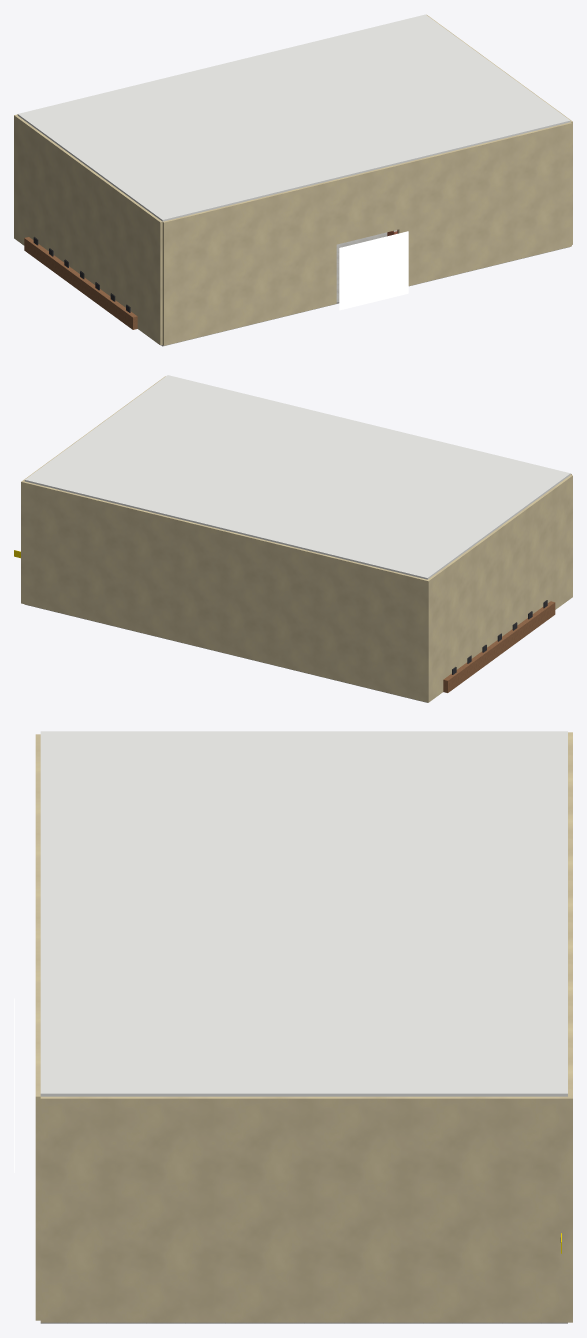
The model's file is room_station.glb.
The picture shows the model from 3 angles, top to bottom: view 1: azimuth 30°, elevation 25°; view 2: azimuth 150°, elevation 25°; view 3: azimuth 270°, elevation 25°; orthographic projection. The views are drawn at different scales.
Visible parts, largest first — view 1: Room; view 2: Room; view 3: Room.
Boxes of the visible parts, x1,y1,x2,y2 form: Room: (14, 14, 572, 346); Room: (14, 375, 572, 702); Room: (14, 731, 572, 1323).
Bounding box in the file's own units: 27.25 × 7.7 × 16.96.
Materials: 33 (5 with a texture image).
